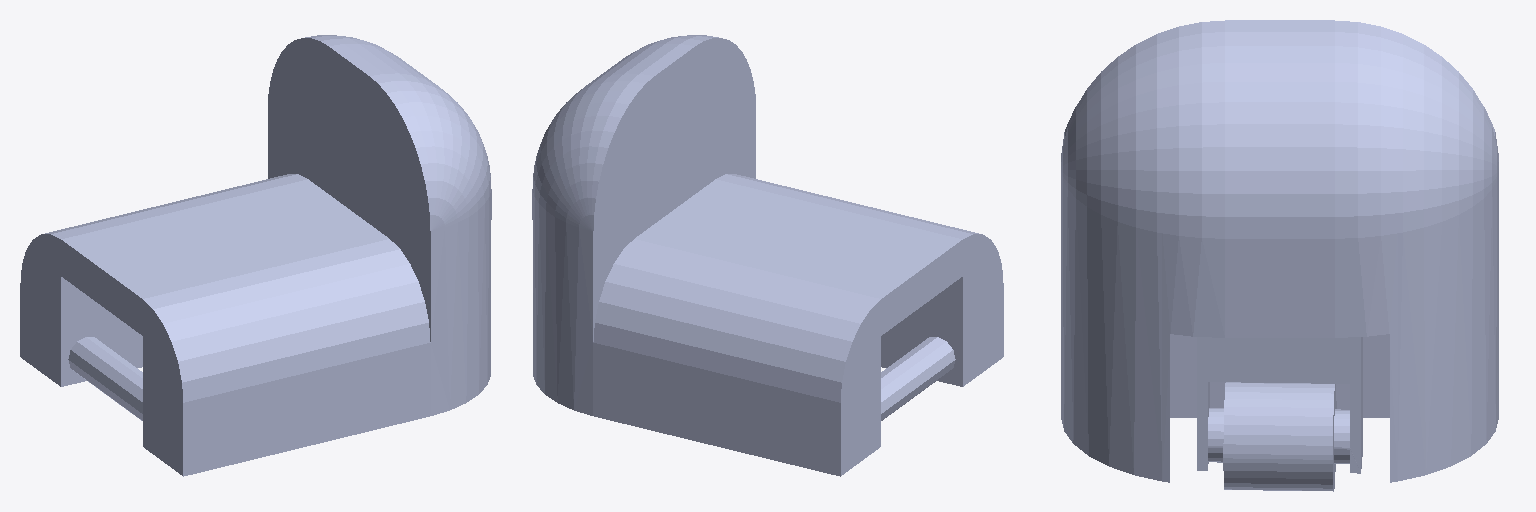
The robot description file, URDF, robot "motorcycle_description":
<?xml version="1.0" encoding="utf-8"?>
<!-- This URDF was automatically created by SolidWorks to URDF Exporter! Originally created by [author] ([email redacted]) 
     Commit Version: 1.6.0-1-g15f4949  Build Version: 1.6.7594.29634
     For more information, please see http://wiki.ros.org/sw_urdf_exporter -->
<robot
  name="motorcycle_description">
  <link
    name="base_link">
    <inertial>
      <origin
        xyz="0.0198751367056354 0 -0.00661418578080362"
        rpy="0 0 0" />
      <mass
        value="0286167.648321881" />
      <inertia
        ixx="0000251.584686193874"
        ixy="-3992708.85719828E-20"
        ixz="-6499685.59641092E-05"
        iyy="0000303.937337408151"
        iyz="1662968.88374662E-20"
        izz="0000355.890399953188" />
    </inertial>
    <visual>
      <origin
        xyz="0 0 0"
        rpy="0 0 0" />
      <geometry>
        <mesh
          filename="package://motorcycle_description/meshes/base_link.STL" />
      </geometry>
      <material
        name="">
        <color
          rgba="0.792156862745098 0.819607843137255 0.933333333333333 1" />
      </material>
    </visual>
    <collision>
      <origin
        xyz="0 0 0"
        rpy="0 0 0" />
      <geometry>
        <mesh
          filename="package://motorcycle_description/meshes/base_link.STL" />
      </geometry>
    </collision>
  </link>
  <link
    name="wheel_back_link">
    <inertial>
      <origin
        xyz="0 -1.38777878078145E-17 0"
        rpy="0 0 0" />
      <mass
        value="0004712.38898038469" />
      <inertia
        ixx="3043417.88316512E-07"
        ixy="2055550.92175828E-38"
        ixz="-1499759.78266185E-40"
        iyy="2945243.11274043E-07"
        iyz="1517756.9000538E-39"
        izz="3043417.88316512E-07" />
    </inertial>
    <visual>
      <origin
        xyz="0 0 0"
        rpy="0 0 0" />
      <geometry>
        <mesh
          filename="package://motorcycle_description/meshes/wheel_back_link.STL" />
      </geometry>
      <material
        name="">
        <color
          rgba="0.792156862745098 0.819607843137255 0.933333333333333 1" />
      </material>
    </visual>
    <collision>
      <origin
        xyz="0 0 0"
        rpy="0 0 0" />
      <geometry>
        <mesh
          filename="package://motorcycle_description/meshes/wheel_back_link.STL" />
      </geometry>
    </collision>
  </link>
  <joint
    name="wheel_back_joint"
    type="continuous">
    <origin
      xyz="-0.028 0 -0.028"
      rpy="0 0 0" />
    <parent
      link="base_link" />
    <child
      link="wheel_back_link" />
    <axis
      xyz="0 1 0" />
    <dynamics
      damping="0.7" />
  </joint>
  <link
    name="direction_link">
    <inertial>
      <origin
        xyz="-2.27964679445219E-06 5.73904965217586E-10 -0.00713129945231977"
        rpy="0 0 0" />
      <mass
        value="0006154.7356109696" />
      <inertia
        ixx="1053694.07445207E-06"
        ixy="-1101743.23325191E-10"
        ixz="6149286.21383257E-11"
        iyy="6160631.97167564E-07"
        iyz="-1548093.25015491E-14"
        izz="5300653.88397654E-07" />
    </inertial>
    <visual>
      <origin
        xyz="0 0 0"
        rpy="0 0 0" />
      <geometry>
        <mesh
          filename="package://motorcycle_description/meshes/direction_link.STL" />
      </geometry>
      <material
        name="">
        <color
          rgba="0.792156862745098 0.819607843137255 0.933333333333333 1" />
      </material>
    </visual>
    <collision>
      <origin
        xyz="0 0 0"
        rpy="0 0 0" />
      <geometry>
        <mesh
          filename="package://motorcycle_description/meshes/direction_link.STL" />
      </geometry>
    </collision>
  </link>
  <joint
    name="direction_joint"
    type="revolute">
    <origin
      xyz="0.058 0 -0.01"
      rpy="0 0 -0.033503" />
    <parent
      link="base_link" />
    <child
      link="direction_link" />
    <axis
      xyz="0 0 1" />
    <limit
      lower="-1"
      upper="1"
      effort="0"
      velocity="0" />
    <dynamics
      damping="0.7" />
  </joint>
  <link
    name="wheel_front_link">
    <inertial>
      <origin
        xyz="6.93889390390723E-18 2.77555756156289E-17 3.46944695195361E-18"
        rpy="0 0 0" />
      <mass
        value="0004712.38898038469" />
      <inertia
        ixx="3043306.06945092E-07"
        ixy="-3311311.43430513E-10"
        ixz="-4341140.43296837E-39"
        iyy="2945354.92645463E-07"
        iyz="7353834.97457319E-39"
        izz="3043417.88316512E-07" />
    </inertial>
    <visual>
      <origin
        xyz="0 0 0"
        rpy="0 0 0" />
      <geometry>
        <mesh
          filename="package://motorcycle_description/meshes/wheel_front_link.STL" />
      </geometry>
      <material
        name="">
        <color
          rgba="0.792156862745098 0.819607843137255 0.933333333333333 1" />
      </material>
    </visual>
    <collision>
      <origin
        xyz="0 0 0"
        rpy="0 0 0" />
      <geometry>
        <mesh
          filename="package://motorcycle_description/meshes/wheel_front_link.STL" />
      </geometry>
    </collision>
  </link>
  <joint
    name="wheel_front_joint"
    type="continuous">
    <origin
      xyz="0 0 -0.018"
      rpy="0 0 0.033503" />
    <parent
      link="direction_link" />
    <child
      link="wheel_front_link" />
    <axis
      xyz="-0.033748 -0.99943 0" />
    <dynamics
      damping="0.7" />
  </joint>

  <gazebo
     reference="base_link">
    <mu1>10</mu1>
    <mu2>10</mu2>
    <material>Gazebo/Orange</material>
  </gazebo>
  <gazebo
     reference="direction_link">
    <mu1>10</mu1>
    <mu2>10</mu2>
    <material>Gazebo/blue</material>
  </gazebo>
  <gazebo
     reference="wheel_front_link">
    <mu1>0.5</mu1>
    <mu2>0.5</mu2>
    <material>Gazebo/Black</material>
  </gazebo>
  <gazebo
     reference="wheel_back_link">
    <mu1>10</mu1>
    <mu2>10</mu2>
    <material>Gazebo/Black</material>
  </gazebo>

  <gazebo>
    <plugin name="gazebo_ros_control" filename="libgazebo_ros_control.so">
      <robotNamespace>/motorcycle</robotNamespace>
      <robotSimType>gazebo_ros_control/DefaultRobotHWSim</robotSimType>
      <legacyModeNS>true</legacyModeNS>
    </plugin>
  </gazebo>

  <!-- <transmission name="tran1">
    <type>transmission_interface/SimpleTransmission</type>
    <joint name="wheel_front_joint">
      <hardwareInterface>hardware_interface/EffortJointInterface</hardwareInterface>
    </joint>
    <actuator name="motor1">
      <hardwareInterface>hardware_interface/EffortJointInterface</hardwareInterface>
      <mechanicalReduction>1</mechanicalReduction>
    </actuator>
  </transmission> -->

  <transmission name="tran2">
    <type>transmission_interface/SimpleTransmission</type>
    <joint name="wheel_back_joint">
      <hardwareInterface>hardware_interface/EffortJointInterface</hardwareInterface>
    </joint>
    <actuator name="motor2">
      <hardwareInterface>hardware_interface/EffortJointInterface</hardwareInterface>
      <mechanicalReduction>1</mechanicalReduction>
    </actuator>
  </transmission>

  <transmission name="tran3">
    <type>transmission_interface/SimpleTransmission</type>
    <joint name="direction_joint">
      <hardwareInterface>hardware_interface/EffortJointInterface</hardwareInterface>
    </joint>
    <actuator name="motor3">
      <hardwareInterface>hardware_interface/EffortJointInterface</hardwareInterface>
      <mechanicalReduction>1</mechanicalReduction>
    </actuator>
  </transmission>

</robot>

--- Facts derived from the render (not from the file) ---
3 views of the same robot in one strip: view 1: azimuth 30°, elevation 25°; view 2: azimuth 150°, elevation 25°; view 3: azimuth 270°, elevation 25° (orthographic).
Robot: motorcycle_description — 4 links, 3 joints (1 revolute, 2 continuous); root link base_link; default pose: every joint at zero.
Links seen in each view (by area): view 1: base_link; view 2: base_link; view 3: base_link, wheel_front_link, direction_link.
Boxes of the visible links, <box> form: base_link: <box>20,35,491,476</box>; base_link: <box>532,35,1003,476</box>; base_link: <box>1061,20,1498,482</box>; wheel_front_link: <box>1223,382,1336,491</box>; direction_link: <box>1197,337,1362,473</box>.
Bounding box of the posed robot: 0.1033 × 0.08 × 0.083 m (x, y, z).
3 mesh visuals loaded from 4 distinct referenced files (3 binary STL); not drawn: 1 (reference not matched to a file when rendering).
